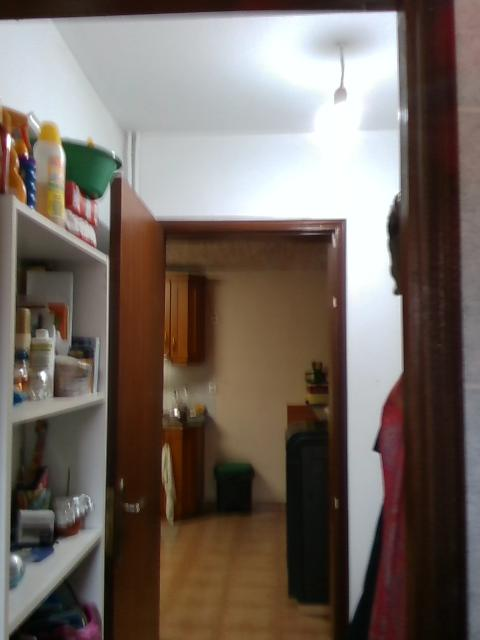open_door: (152, 218, 342, 639)
